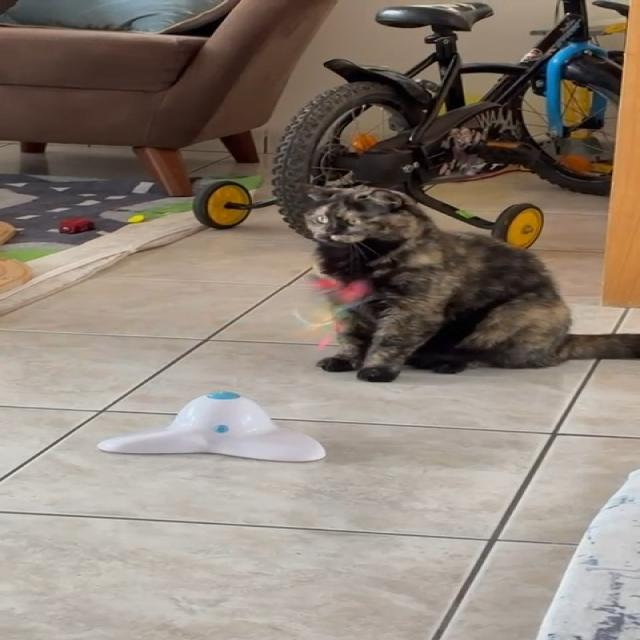authorized: (292, 181, 639, 383)
